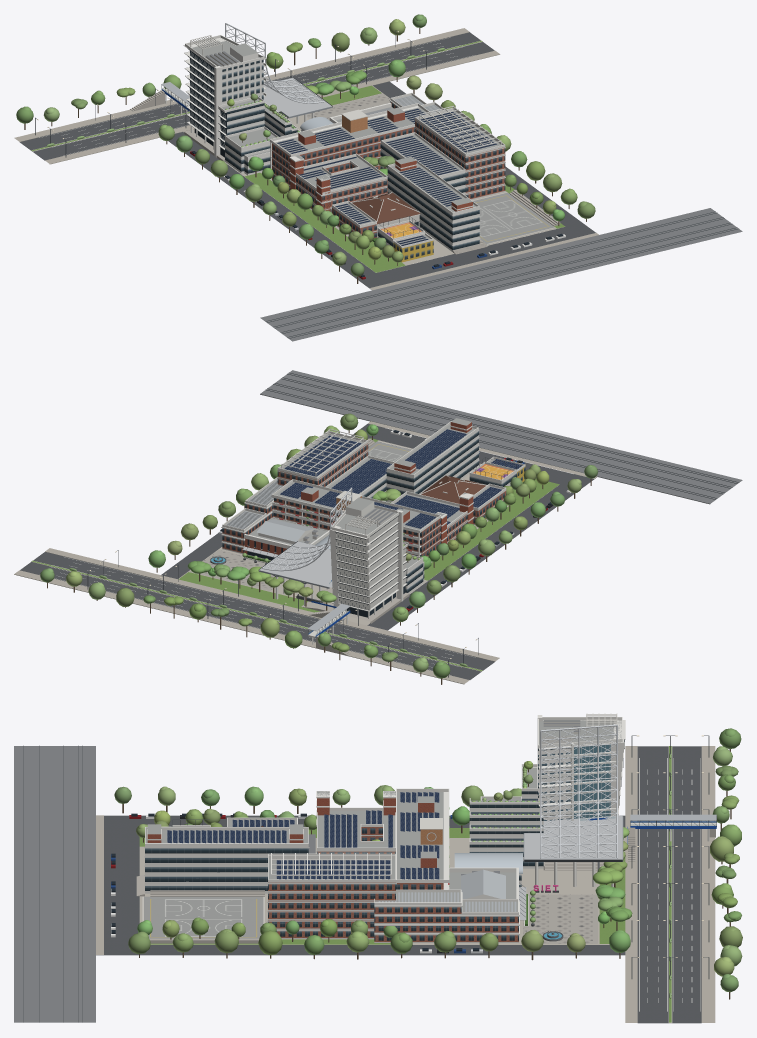
The model's file is SIET_KMITL_model.glb.
3 renders of one model, top to bottom at view 1: azimuth 30°, elevation 25°; view 2: azimuth 150°, elevation 25°; view 3: azimuth 270°, elevation 25°, orthographic. The views are drawn at different scales.
Parts seen in each view (by area): view 1: ground_roofDark, ground_asphalt, details_foliage, details_solar, ground_sidewalk, ground_steelDark, ground_grass, long_fac_ribbon, tower_white, court_mesh, jomtrai_fac_brick, jomtrai_white (+22 smaller); view 2: ground_roofDark, details_foliage, ground_asphalt, tower_white, details_solar, ground_sidewalk, ground_grass, ground_steelDark, long_fac_ribbon, jomtrai_white, tower_canopyTop, middle_fac_brick (+22 smaller); view 3: ground_asphalt, ground_roofDark, details_foliage, ground_sidewalk, details_solar, long_fac_ribbon, jomtrai_fac_brick, tower_steel, court_mesh, east_fac_brick, tower_white, jomtrai_white (+32 smaller).
Boxes of the visible parts, bbox=[...] form: ground_roofDark: bbox=[260, 208, 742, 341]; ground_asphalt: bbox=[20, 32, 595, 289]; details_foliage: bbox=[16, 14, 595, 276]; details_solar: bbox=[277, 108, 496, 245]; ground_sidewalk: bbox=[14, 28, 598, 290]; ground_steelDark: bbox=[265, 211, 738, 338]; ground_grass: bbox=[31, 40, 564, 272]; long_fac_ribbon: bbox=[387, 168, 479, 251]; tower_white: bbox=[184, 35, 266, 157]; court_mesh: bbox=[473, 192, 554, 243]; jomtrai_fac_brick: bbox=[415, 120, 505, 199]; jomtrai_white: bbox=[381, 106, 505, 195]; ground_roofDark: bbox=[260, 370, 742, 504]; details_foliage: bbox=[40, 413, 597, 678]; ground_asphalt: bbox=[20, 424, 596, 679]; tower_white: bbox=[330, 500, 403, 611]; details_solar: bbox=[280, 429, 521, 528]; ground_sidewalk: bbox=[14, 421, 597, 684]; ground_grass: bbox=[31, 438, 559, 671]; ground_steelDark: bbox=[265, 372, 739, 499]; long_fac_ribbon: bbox=[386, 430, 478, 502]; jomtrai_white: bbox=[277, 429, 394, 494]; tower_canopyTop: bbox=[259, 541, 332, 587]; middle_fac_brick: bbox=[274, 498, 440, 561]; ground_asphalt: bbox=[96, 746, 701, 1023]; ground_roofDark: bbox=[14, 746, 95, 1022]; details_foliage: bbox=[114, 728, 742, 998]; ground_sidewalk: bbox=[96, 746, 715, 1022]; details_solar: bbox=[167, 792, 439, 879]; long_fac_ribbon: bbox=[145, 846, 308, 893]; jomtrai_fac_brick: bbox=[268, 882, 395, 938]; tower_steel: bbox=[540, 724, 617, 858]; court_mesh: bbox=[144, 896, 263, 938]; east_fac_brick: bbox=[374, 907, 518, 942]; tower_white: bbox=[537, 715, 625, 820]; jomtrai_white: bbox=[267, 853, 396, 931].
Size of the model in its own units: 240 by 51.92 by 267.
Materials: 46 (14 with a texture image).
